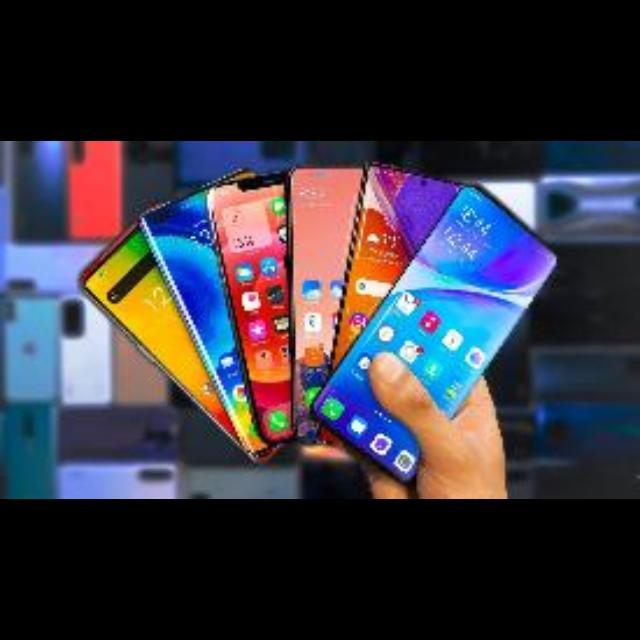Phone: (318, 180, 562, 480)
